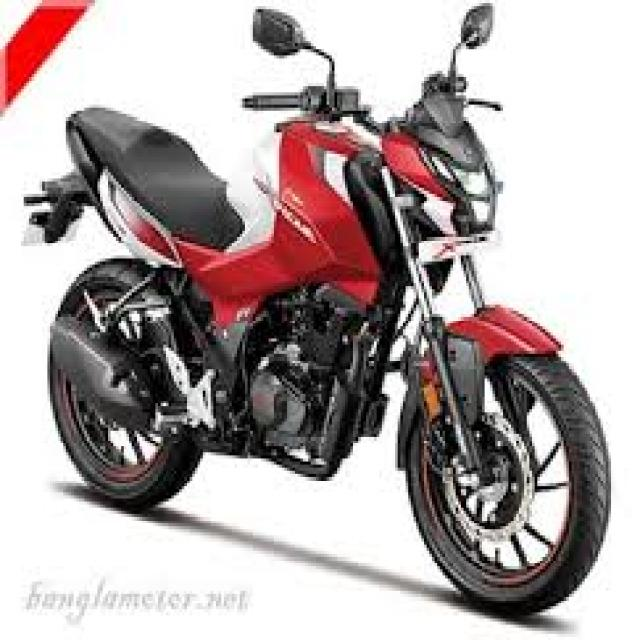Bike: (22, 3, 613, 619)
